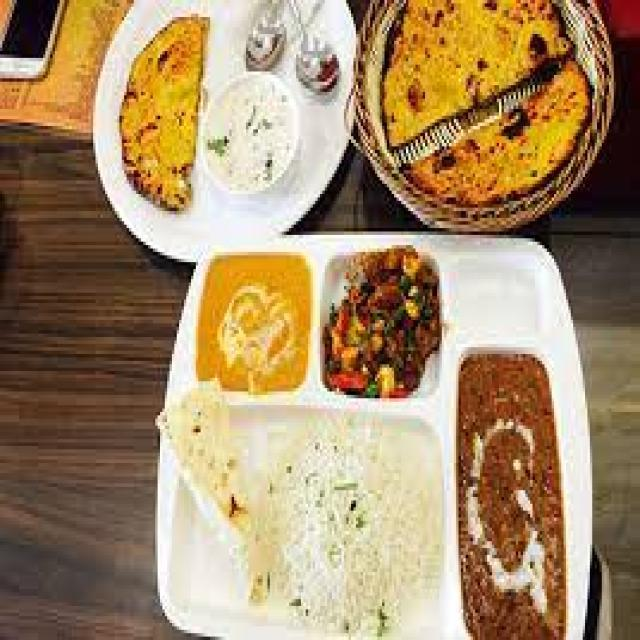papad: (379, 0, 555, 146), (164, 381, 238, 480)
pickle: (289, 16, 350, 100)
rice: (199, 75, 305, 200)
veg-fry: (459, 353, 547, 563), (119, 19, 204, 208)
